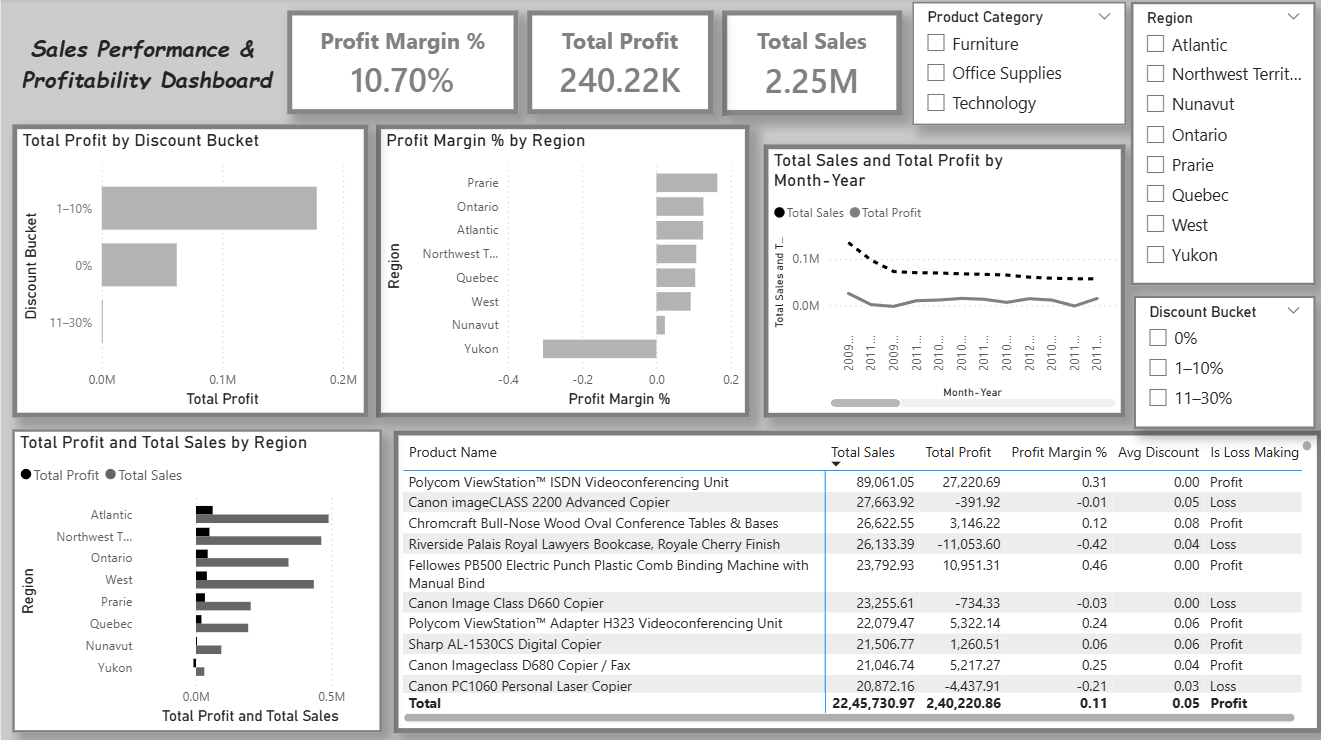

The dashboard page shown, as its layout file describes it:
{"tool":"powerbi","page":{"name":"Page 1","canvas":[1280,720],"ordinal":0},"visuals":[{"type":"textbox","box":[0,29,289.5,63.9],"z":0},{"type":"cardVisual","fields":{"Data":["Superstore_Cleaned.Total Sales"]},"box":[696.1,12.1,173.7,101.3],"z":1},{"type":"cardVisual","fields":{"Data":["Superstore_Cleaned.Profit Margin %"]},"box":[276.3,12.1,223.2,100.1],"z":2},{"type":"cardVisual","fields":{"Data":["Superstore_Cleaned.Total Profit"]},"box":[507.9,12.1,179.8,100.1],"z":3},{"type":"lineChart","fields":{"Category":["Superstore_Cleaned.Month-Year"],"Y":["Superstore_Cleaned.Total Sales","Superstore_Cleaned.Total Profit"]},"box":[735.9,141.2,349.9,264.2],"z":4},{"type":"pivotTable","fields":{"Values":["Superstore_Cleaned.Total Sales","Superstore_Cleaned.Total Profit","Superstore_Cleaned.Profit Margin %","Superstore_Cleaned.Avg Discount","Superstore_Cleaned.Is Loss Making"],"Rows":["Superstore_Cleaned.Product Name"]},"box":[378.8,417.4,896.4,292],"z":5},{"type":"barChart","fields":{"Category":["Superstore_Cleaned.Region"],"Y":["Superstore_Cleaned.Profit Margin %"]},"box":[361.9,121.9,360.7,283.5],"z":6},{"type":"barChart","fields":{"Category":["Superstore_Cleaned.Discount Bucket"],"Y":["Superstore_Cleaned.Total Profit"]},"box":[10.9,121.9,343.8,283.5],"z":7},{"type":"clusteredBarChart","fields":{"Category":["Superstore_Cleaned.Region"],"Y":["Superstore_Cleaned.Total Profit","Superstore_Cleaned.Total Sales"]},"box":[10.9,416.2,357.1,293.2],"z":8},{"type":"slicer","fields":{"Values":["Superstore_Cleaned.Product Category"]},"box":[879.5,3.6,206.3,119.4],"z":9},{"type":"slicer","fields":{"Values":["Superstore_Cleaned.Region"]},"box":[1090.6,3.6,178.6,273.9],"z":10},{"type":"slicer","fields":{"Values":["Superstore_Cleaned.Discount Bucket"]},"box":[1093,287.1,176.1,129.1],"z":11}]}

Visuals, with their boxes in screenshot pixels (x1, y1, x2, y2), scaled from the page's 1280x720 canvas onto the 1321x740 screenshot:
textbox: {"x1": 0, "y1": 30, "x2": 299, "y2": 95}
cardVisual - Superstore_Cleaned.Total Sales: {"x1": 718, "y1": 12, "x2": 898, "y2": 117}
cardVisual - Superstore_Cleaned.Profit Margin %: {"x1": 285, "y1": 12, "x2": 515, "y2": 115}
cardVisual - Superstore_Cleaned.Total Profit: {"x1": 524, "y1": 12, "x2": 710, "y2": 115}
lineChart - Superstore_Cleaned.Month-Year x Superstore_Cleaned.Total Sales: {"x1": 759, "y1": 145, "x2": 1121, "y2": 417}
pivotTable - Superstore_Cleaned.Total Sales x Superstore_Cleaned.Total Profit: {"x1": 391, "y1": 429, "x2": 1316, "y2": 729}
barChart - Superstore_Cleaned.Region x Superstore_Cleaned.Profit Margin %: {"x1": 373, "y1": 125, "x2": 746, "y2": 417}
barChart - Superstore_Cleaned.Discount Bucket x Superstore_Cleaned.Total Profit: {"x1": 11, "y1": 125, "x2": 366, "y2": 417}
clusteredBarChart - Superstore_Cleaned.Region x Superstore_Cleaned.Total Profit: {"x1": 11, "y1": 428, "x2": 380, "y2": 729}
slicer - Superstore_Cleaned.Product Category: {"x1": 908, "y1": 4, "x2": 1121, "y2": 126}
slicer - Superstore_Cleaned.Region: {"x1": 1126, "y1": 4, "x2": 1310, "y2": 285}
slicer - Superstore_Cleaned.Discount Bucket: {"x1": 1128, "y1": 295, "x2": 1310, "y2": 428}
